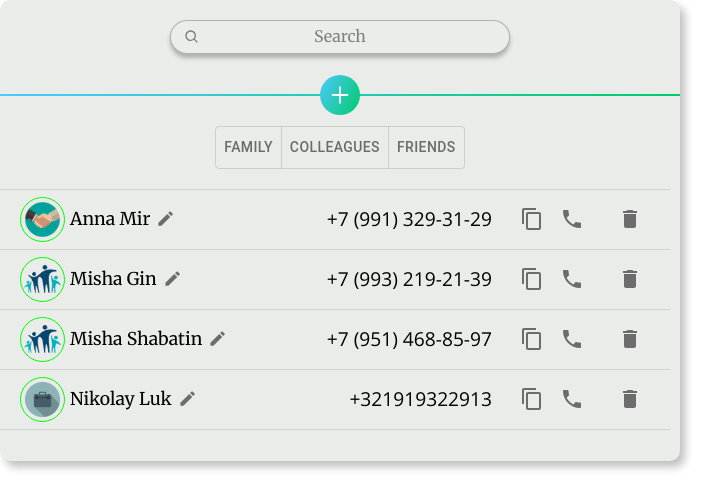
Contacts › should search contact
The width and height of the screenshot is (706, 488).
Type "misha" into the field named "search".
click(340, 37); type("misha")  # box top-left (170, 20), bottom-right (510, 54)
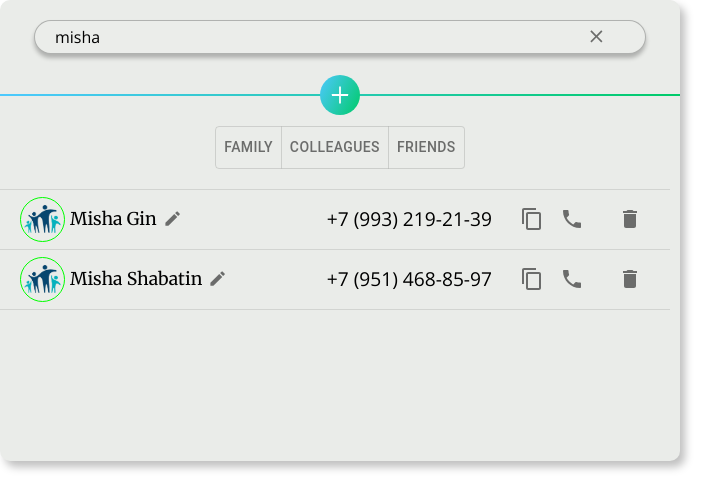
Check: the number of elements with test id "contact" is 2, box top-left (0, 188), bottom-right (670, 248); top-left (0, 248), bottom-right (670, 310)
Click the button named "resetInput".
click(597, 37)  # box top-left (581, 21), bottom-right (612, 52)
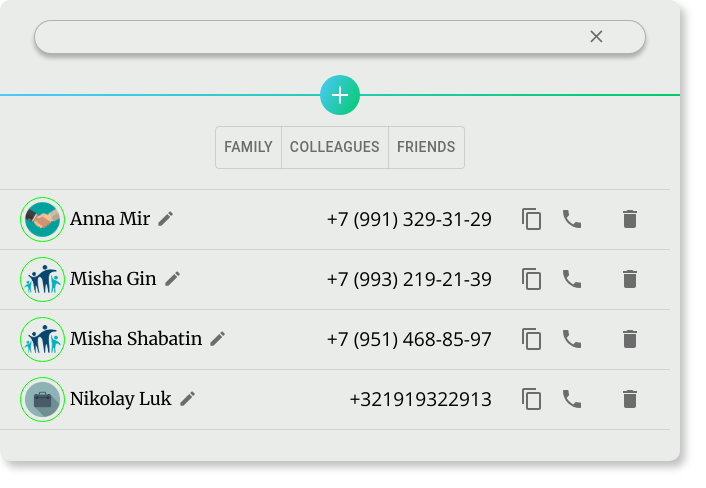
Check: the field named "search" is empty, box top-left (34, 20), bottom-right (646, 54)
Check: the number of elements with test id "contact" is 4, box top-left (0, 188), bottom-right (670, 248); top-left (0, 248), bottom-right (670, 308); top-left (0, 308), bottom-right (670, 368); top-left (0, 368), bottom-right (670, 430)
